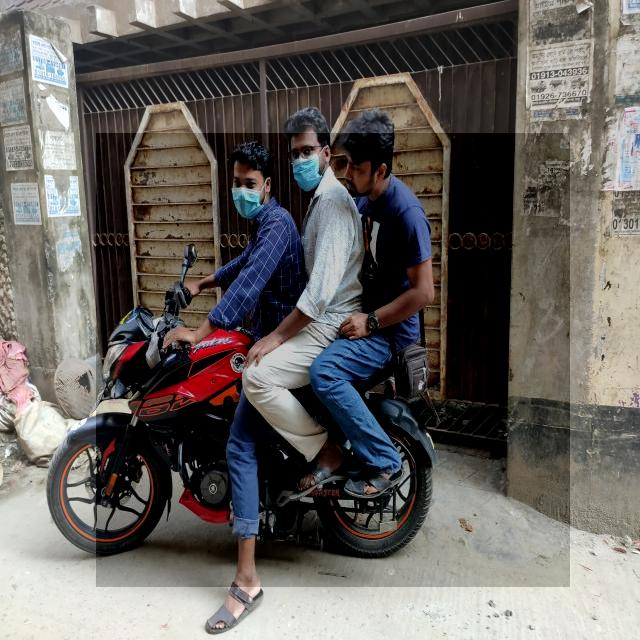Overloading: (96, 133, 570, 588)
